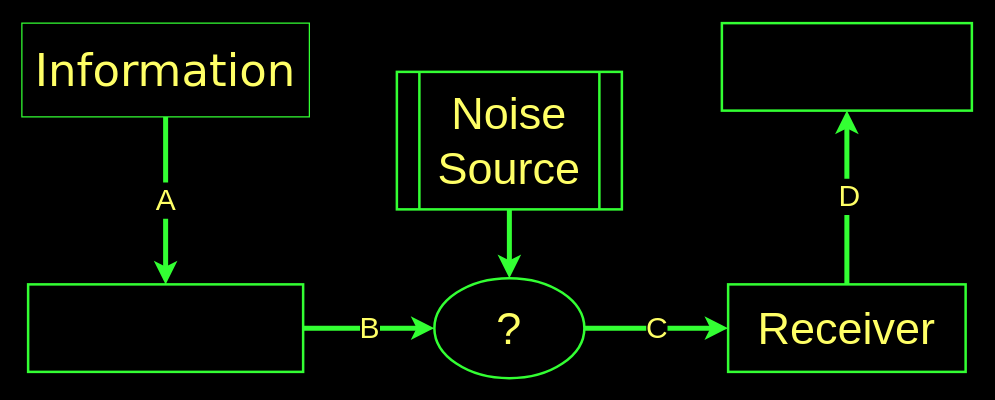
This 995x400 diagram has some shape labels left out. The box of each missing label's shape, as (x1, y1, x2, y2) in pixels:
Destination: (720, 21, 972, 111)
Transmitter: (26, 282, 304, 372)
